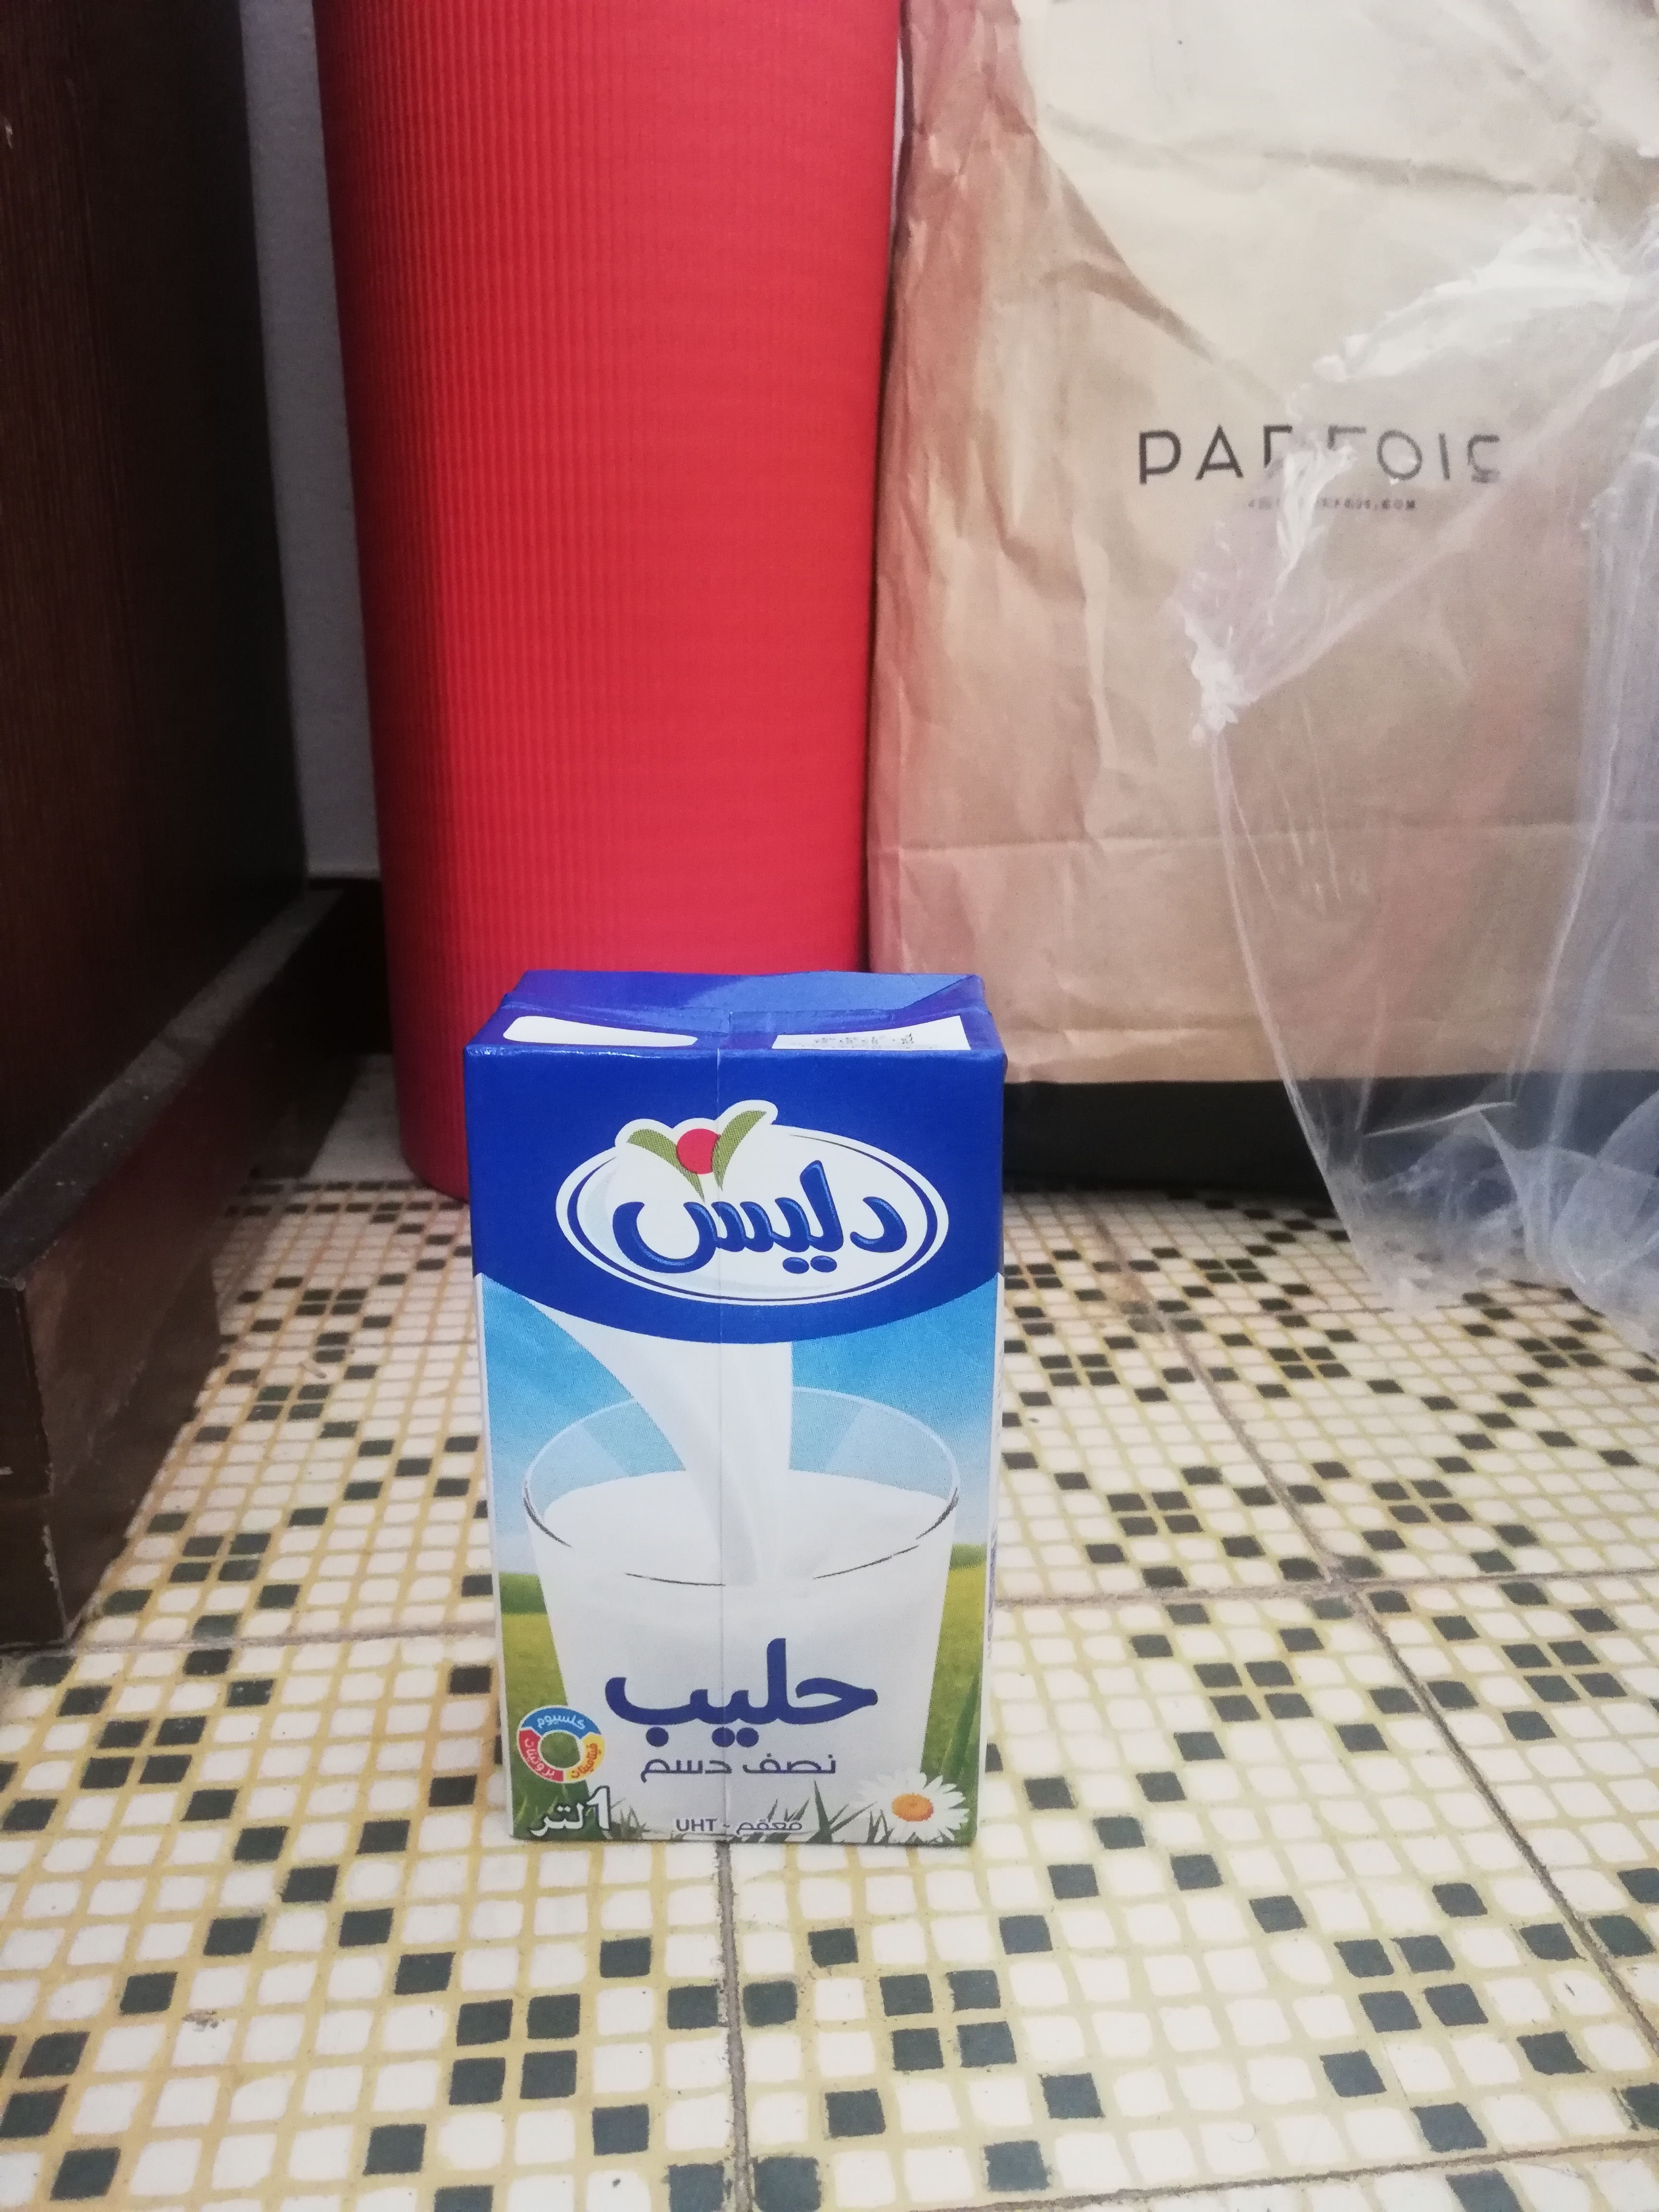Lait delice: (451, 968, 993, 1850)
